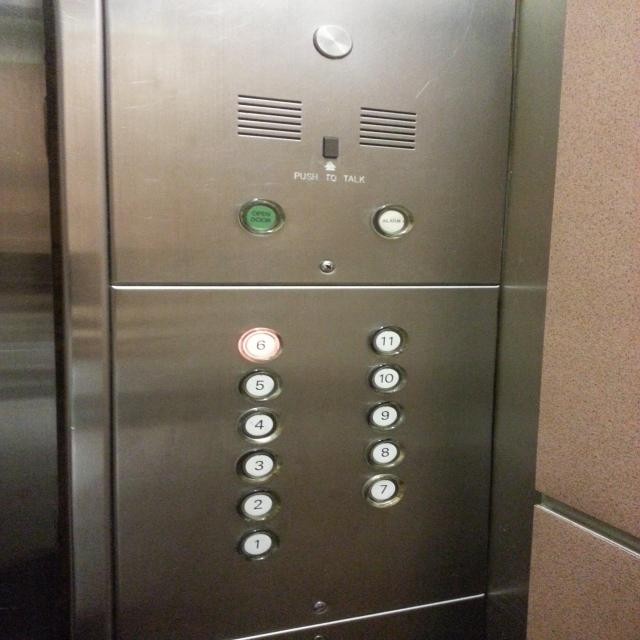1: (237, 527, 279, 561)
10: (367, 362, 407, 394)
11: (370, 324, 408, 357)
2: (236, 489, 280, 521)
3: (236, 447, 280, 482)
4: (236, 406, 282, 444)
5: (238, 366, 283, 402)
6: (237, 325, 283, 364)
7: (362, 473, 406, 508)
8: (364, 436, 405, 469)
9: (366, 400, 404, 431)
empty: (312, 23, 353, 58), (322, 136, 340, 159)
text_close door: (370, 202, 415, 240)
text_open door: (237, 196, 286, 236)
